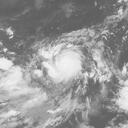cyclone: (42, 29, 93, 85)
